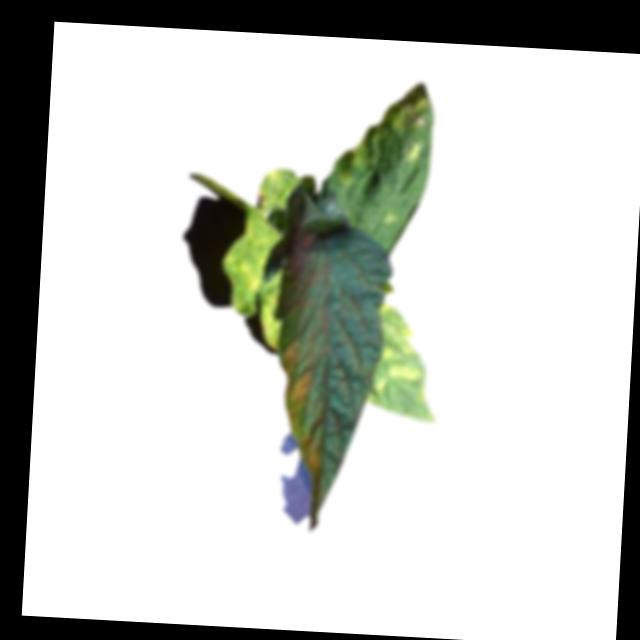Leaf_Mold: (344, 78, 438, 190), (219, 208, 288, 349), (371, 300, 430, 407), (279, 344, 317, 412), (299, 432, 330, 478)
